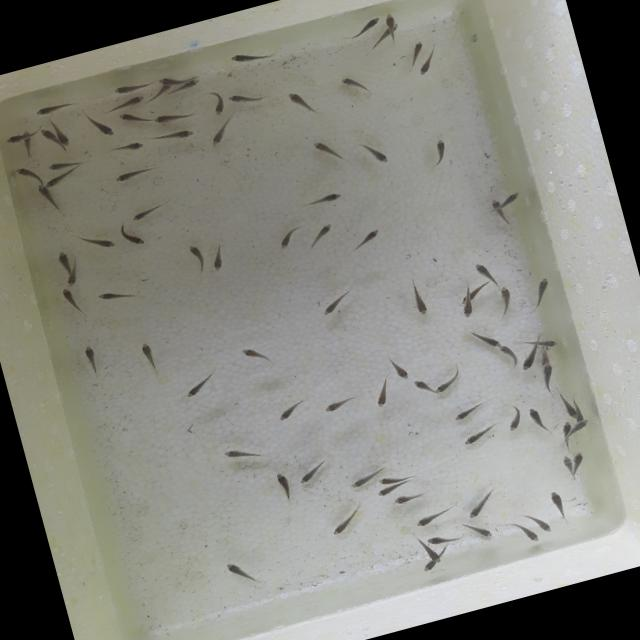fingerling: (217, 548, 275, 594), (176, 370, 224, 402), (458, 484, 500, 520), (449, 394, 496, 422), (266, 224, 307, 256), (314, 287, 356, 318), (304, 218, 344, 250), (150, 124, 197, 150), (216, 441, 262, 467), (428, 366, 469, 395), (78, 229, 119, 258), (292, 459, 334, 487), (339, 15, 381, 43), (228, 44, 277, 68), (410, 504, 450, 533), (83, 108, 117, 142), (204, 116, 240, 148), (298, 188, 348, 211), (308, 135, 346, 165), (110, 162, 161, 184), (368, 376, 400, 411), (336, 70, 372, 101), (98, 283, 140, 309), (284, 86, 316, 120), (456, 421, 499, 446), (60, 284, 91, 318), (347, 227, 386, 254), (328, 508, 363, 538), (493, 282, 522, 318), (223, 84, 263, 110), (456, 277, 494, 304), (404, 284, 433, 319), (235, 340, 272, 366), (361, 138, 392, 169), (525, 506, 555, 538), (499, 398, 527, 432), (273, 397, 308, 424), (121, 223, 152, 253), (528, 276, 557, 308), (50, 116, 76, 151), (386, 488, 431, 508), (542, 485, 569, 518), (426, 136, 452, 170), (534, 363, 562, 394), (474, 327, 506, 354), (128, 202, 170, 222), (426, 528, 464, 550), (41, 166, 79, 188), (34, 98, 75, 118), (136, 338, 160, 372), (153, 106, 193, 126), (110, 78, 150, 98), (488, 192, 509, 230), (36, 182, 60, 214), (80, 341, 102, 375), (206, 238, 228, 272), (273, 470, 297, 501), (531, 330, 563, 353), (185, 241, 207, 274), (169, 76, 205, 96), (342, 471, 376, 492), (514, 520, 540, 547), (321, 394, 356, 414), (110, 139, 146, 158), (46, 154, 84, 172), (412, 53, 439, 78), (516, 347, 544, 371), (38, 125, 61, 154), (18, 129, 40, 158), (14, 161, 40, 185), (406, 38, 429, 65), (112, 93, 146, 111), (558, 392, 578, 422), (498, 342, 522, 367), (469, 519, 496, 541), (206, 91, 228, 118), (365, 29, 393, 50), (114, 108, 142, 129), (54, 246, 76, 272), (390, 356, 410, 384), (421, 540, 442, 566), (558, 420, 578, 447), (142, 85, 170, 104), (526, 402, 544, 430), (376, 471, 408, 486), (158, 71, 186, 88), (570, 450, 590, 472), (474, 258, 494, 280), (376, 482, 406, 496), (572, 417, 594, 436), (502, 190, 524, 207), (63, 268, 82, 286), (460, 298, 477, 318), (561, 454, 575, 476), (411, 378, 432, 392), (573, 400, 586, 421), (380, 12, 397, 28), (4, 134, 26, 146), (538, 351, 554, 366), (419, 562, 434, 574)
